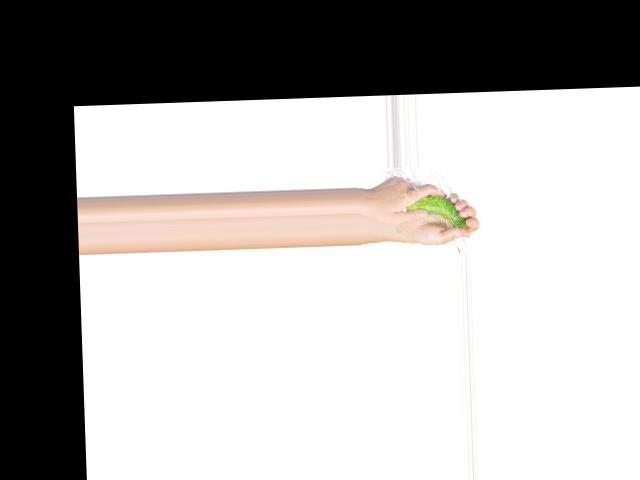cucumber: (404, 192, 468, 230)
